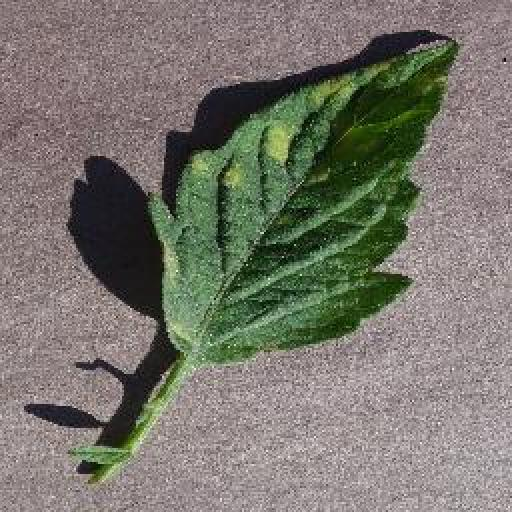Leaf Mold: (142, 33, 457, 368)
